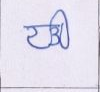i_matra: (55, 8, 74, 49)
